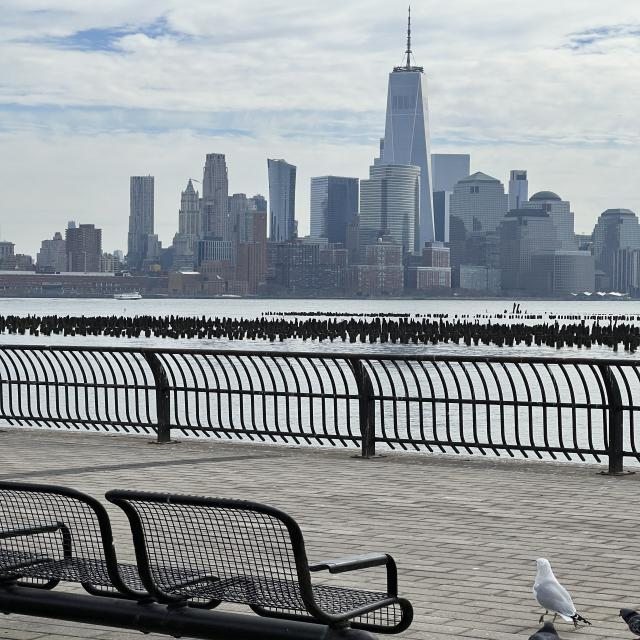WTC: (381, 8, 432, 165)
